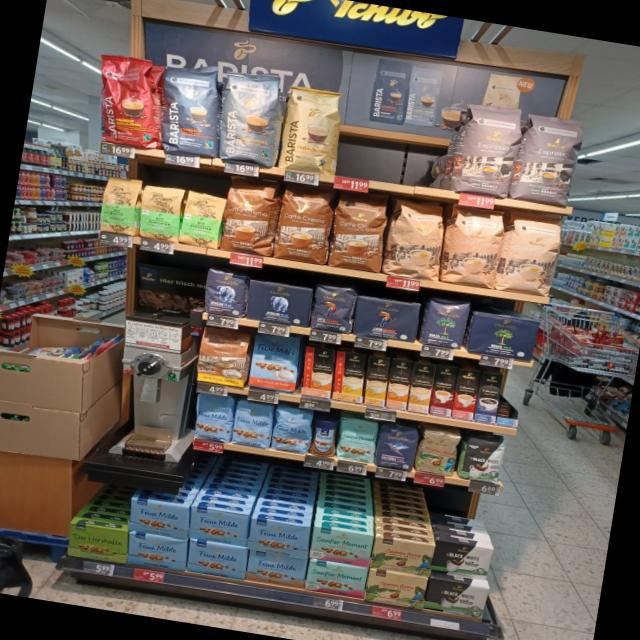AB Bohne: (198, 267, 252, 320)
AB Gemahlen: (244, 278, 315, 328)
Athiopien Bohne: (96, 174, 144, 237)
Athiopien Gemahlen: (136, 184, 186, 244), (178, 189, 226, 249)
BM Bohne: (420, 294, 473, 352)
BM Gemahlen: (466, 312, 540, 362)
BW Bohne: (460, 434, 508, 486)
BW Gemahlen: (424, 577, 491, 620), (432, 538, 494, 582)
Barista CB: (277, 82, 350, 176)
Barista CC: (212, 69, 291, 168)
Barista Espresso: (153, 64, 230, 160)
Barista Kolumbien: (100, 51, 160, 151)
C Fino Bohne: (374, 421, 421, 472)
CC Mild: (439, 203, 508, 291), (382, 196, 450, 284), (499, 211, 566, 298)
CC Vollmundig: (195, 326, 253, 390)
CC Vollmundig 36 Pads: (218, 175, 282, 258), (328, 192, 392, 275), (274, 184, 336, 264)
Colombia BB Bohne: (414, 426, 463, 476)
Colombia BB Gemahlen: (371, 536, 436, 578), (364, 569, 429, 611)
Empty Shelf: (340, 90, 463, 192), (496, 376, 524, 420)
Espresso Aromatisch: (448, 100, 524, 200), (513, 112, 585, 208)
FM 36 Pads: (245, 332, 302, 394)
FM Bohne: (190, 392, 237, 445), (231, 398, 277, 450), (270, 405, 316, 456)
FM Gemahlen: (126, 496, 192, 540), (184, 538, 250, 582), (186, 504, 252, 547), (246, 518, 313, 560), (126, 531, 189, 573), (245, 550, 309, 590)
FM Instant: (310, 416, 340, 458)
Herzhatfe Mundig: (66, 522, 130, 564)
LG Bohne: (308, 281, 360, 336)
LG Gemahlen: (351, 295, 423, 346)
SM Bohne: (332, 414, 380, 465)
SM Gemahlen: (310, 526, 374, 568), (305, 559, 369, 600)
Simo CCMild: (333, 351, 366, 403)
Simo CCMild bigpack: (362, 355, 391, 408)
Simo CCVollmundig: (303, 347, 334, 398)
Simo CCVollmundig bigpack: (386, 358, 414, 411)
Simo Decaff: (408, 362, 436, 413)
Simo Es Brazil: (452, 369, 480, 421)
Simo Es Caramel: (429, 364, 458, 417)
Simo Es Kraft: (475, 372, 503, 424)
